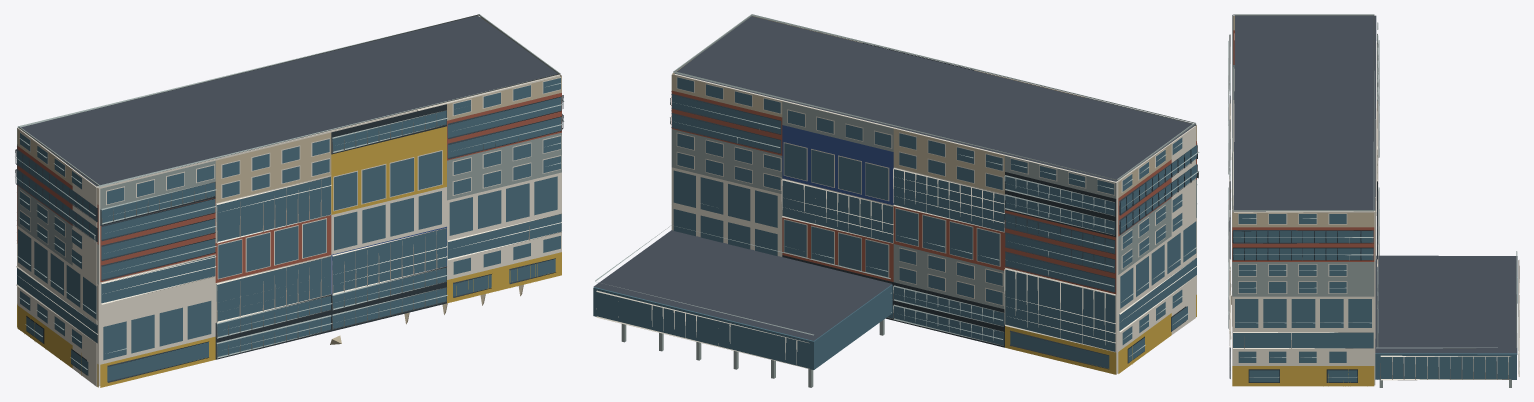
File: silodam.lod1.glb
3 views of the same model, side by side, from view 1: azimuth 30°, elevation 25°; view 2: azimuth 150°, elevation 25°; view 3: azimuth 270°, elevation 25° (orthographic). The views are drawn at different scales.
Visible parts, largest first — view 1: silodam; view 2: silodam; view 3: silodam.
Boxes of the visible parts, x1=… form: silodam: x1=15, y1=14, x2=564, y2=387; silodam: x1=593, y1=14, x2=1199, y2=387; silodam: x1=1228, y1=14, x2=1519, y2=387.
Size of the model in its own units: 66.58 by 29.33 by 41.12.
